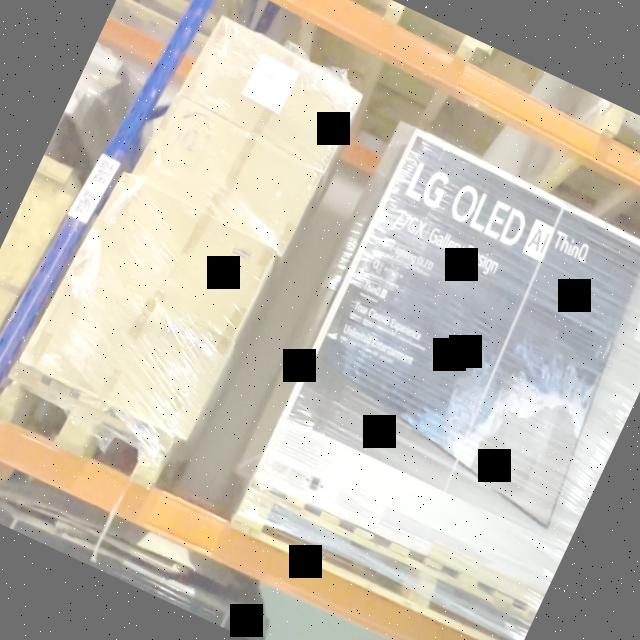box: (23, 268, 232, 440), (77, 176, 276, 342), (137, 105, 322, 248), (182, 26, 362, 168)
